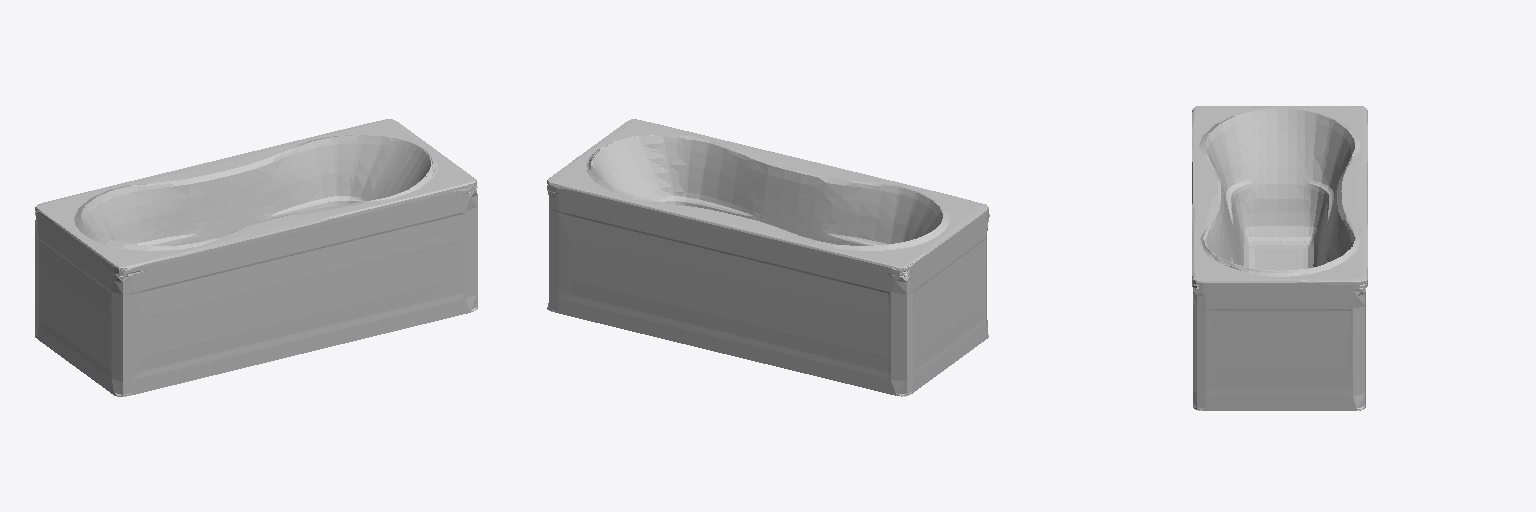
File: Tub.obj
3 views of the same model, side by side, from view 1: azimuth 30°, elevation 25°; view 2: azimuth 150°, elevation 25°; view 3: azimuth 270°, elevation 25° (orthographic).
Visible parts, largest first — view 1: 16._TUB_FINAL_body_Plane.003; view 2: 16._TUB_FINAL_body_Plane.003; view 3: 16._TUB_FINAL_body_Plane.003.
Boxes of the visible parts, x1,y1,x2,y2 form: 16._TUB_FINAL_body_Plane.003: [35, 119, 477, 396]; 16._TUB_FINAL_body_Plane.003: [547, 119, 989, 396]; 16._TUB_FINAL_body_Plane.003: [1192, 106, 1367, 410].
Size of the model in its own units: 11.41 by 4 by 4.82.